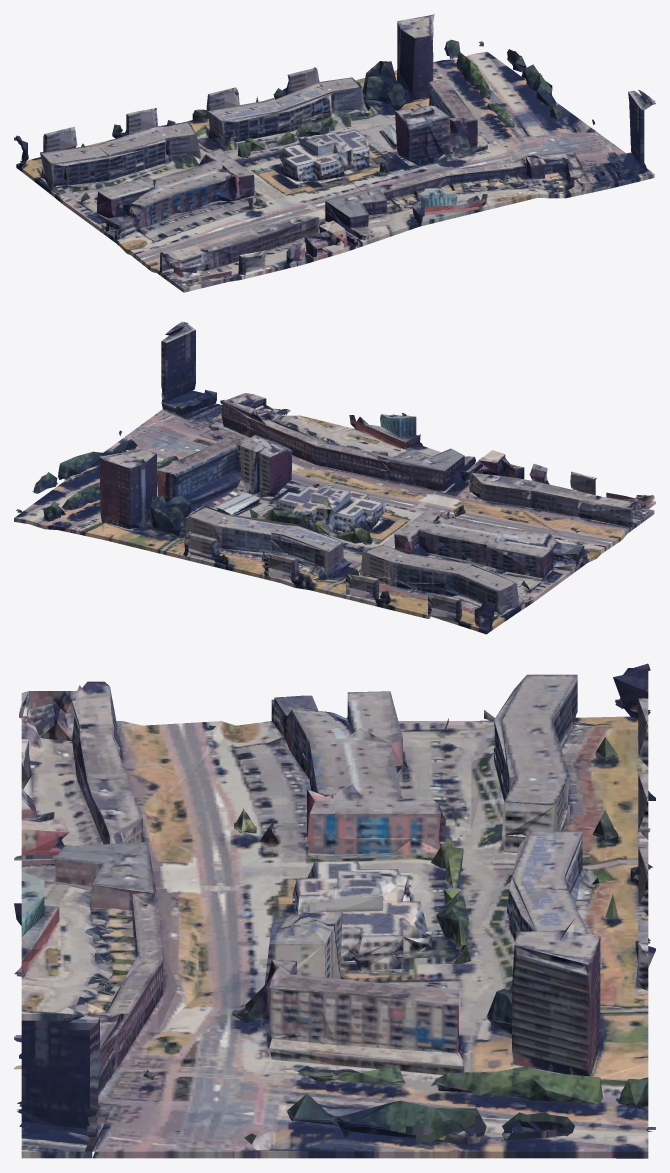
File: latestTesting2.fbx
3 renders of one model, top to bottom at view 1: azimuth 30°, elevation 25°; view 2: azimuth 150°, elevation 25°; view 3: azimuth 270°, elevation 25°, orthographic. The views are drawn at different scales.
Visible parts, largest first — view 1: BuildingMesh-00351.001; view 2: BuildingMesh-00351.001; view 3: BuildingMesh-00351.001.
Boxes of the visible parts, x1,y1,x2,y2 form: BuildingMesh-00351.001: [14, 14, 655, 292]; BuildingMesh-00351.001: [14, 321, 655, 634]; BuildingMesh-00351.001: [14, 663, 655, 1158].
Bounding box in the file's own units: 642 × 102 × 399.
8 materials, 8 textured.
